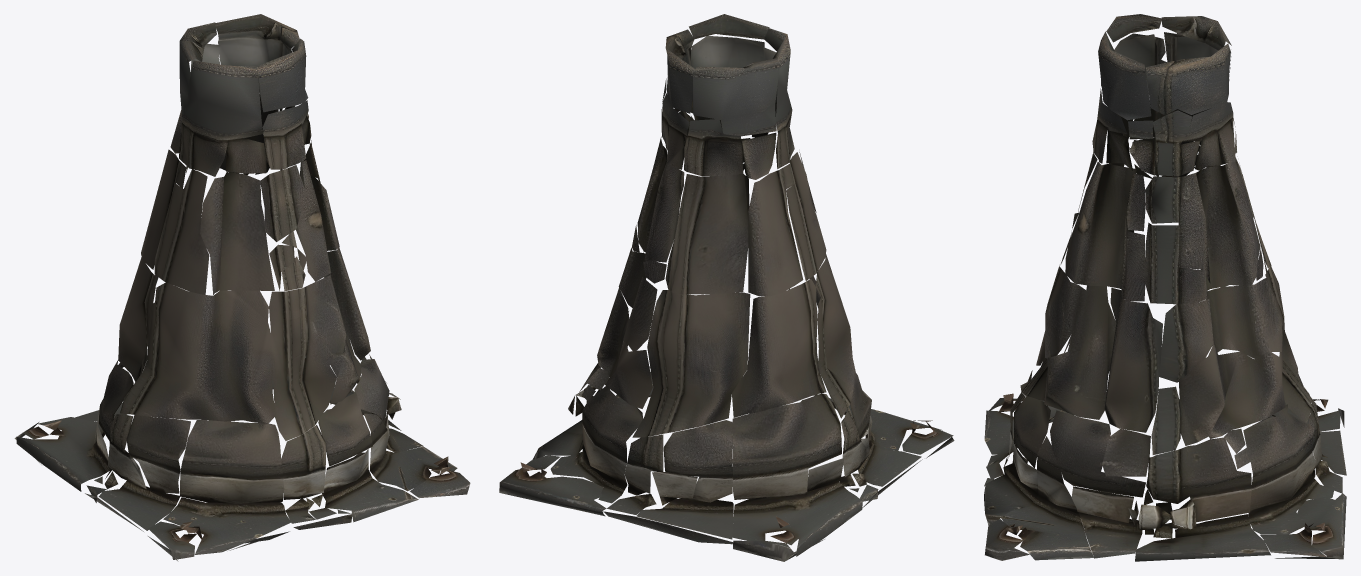
Rendered from boot_dec.glb.
3 views of the same model, side by side, from view 1: azimuth 30°, elevation 25°; view 2: azimuth 150°, elevation 25°; view 3: azimuth 270°, elevation 25° (orthographic). The views are drawn at different scales.
Visible parts, largest first — view 1: tripo_node_b8e26951-b97c-4fcf-b79f-9e9cddb244a6; view 2: tripo_node_b8e26951-b97c-4fcf-b79f-9e9cddb244a6; view 3: tripo_node_b8e26951-b97c-4fcf-b79f-9e9cddb244a6.
Part boxes in pixels (x1,y1,x2,y2): tripo_node_b8e26951-b97c-4fcf-b79f-9e9cddb244a6: [14, 14, 470, 561]; tripo_node_b8e26951-b97c-4fcf-b79f-9e9cddb244a6: [499, 14, 954, 561]; tripo_node_b8e26951-b97c-4fcf-b79f-9e9cddb244a6: [984, 14, 1346, 561].
Bounding box in the file's own units: 0.7332 × 1 × 0.7316.
Materials: 1 (1 with a texture image).
